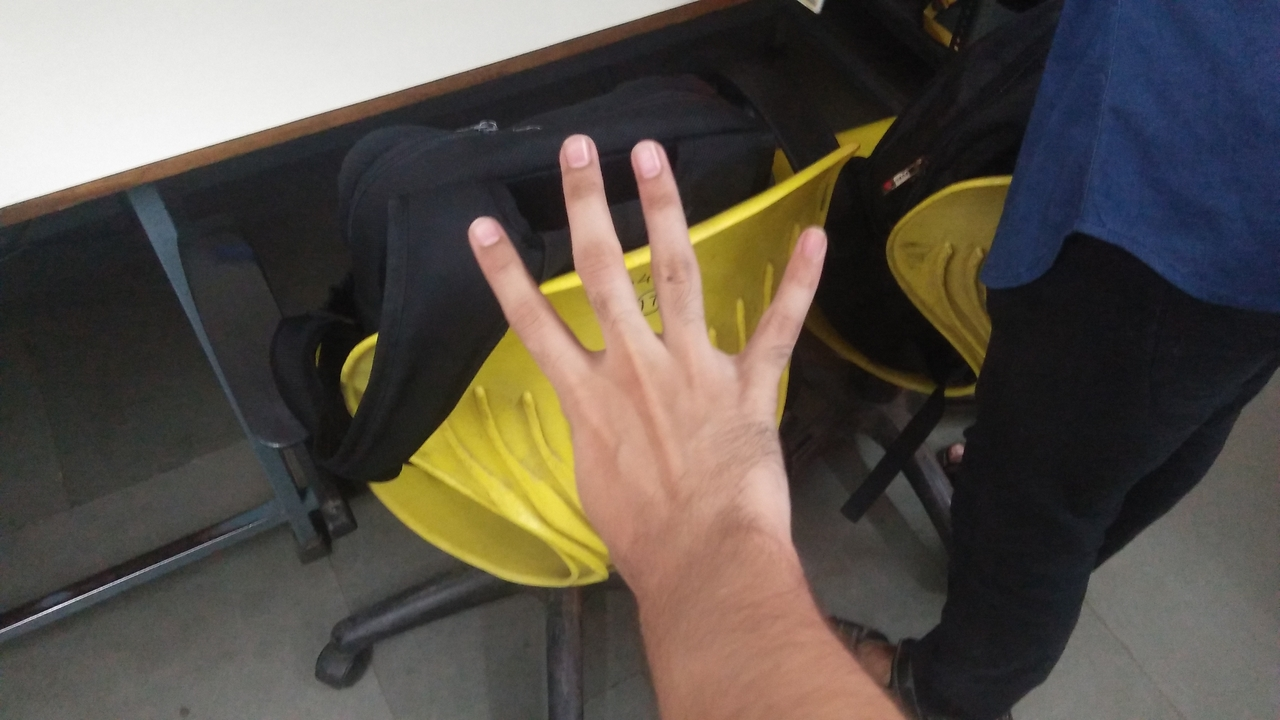fingertip: (458, 208, 518, 270), (620, 128, 680, 186), (548, 126, 604, 176), (792, 218, 828, 260)
